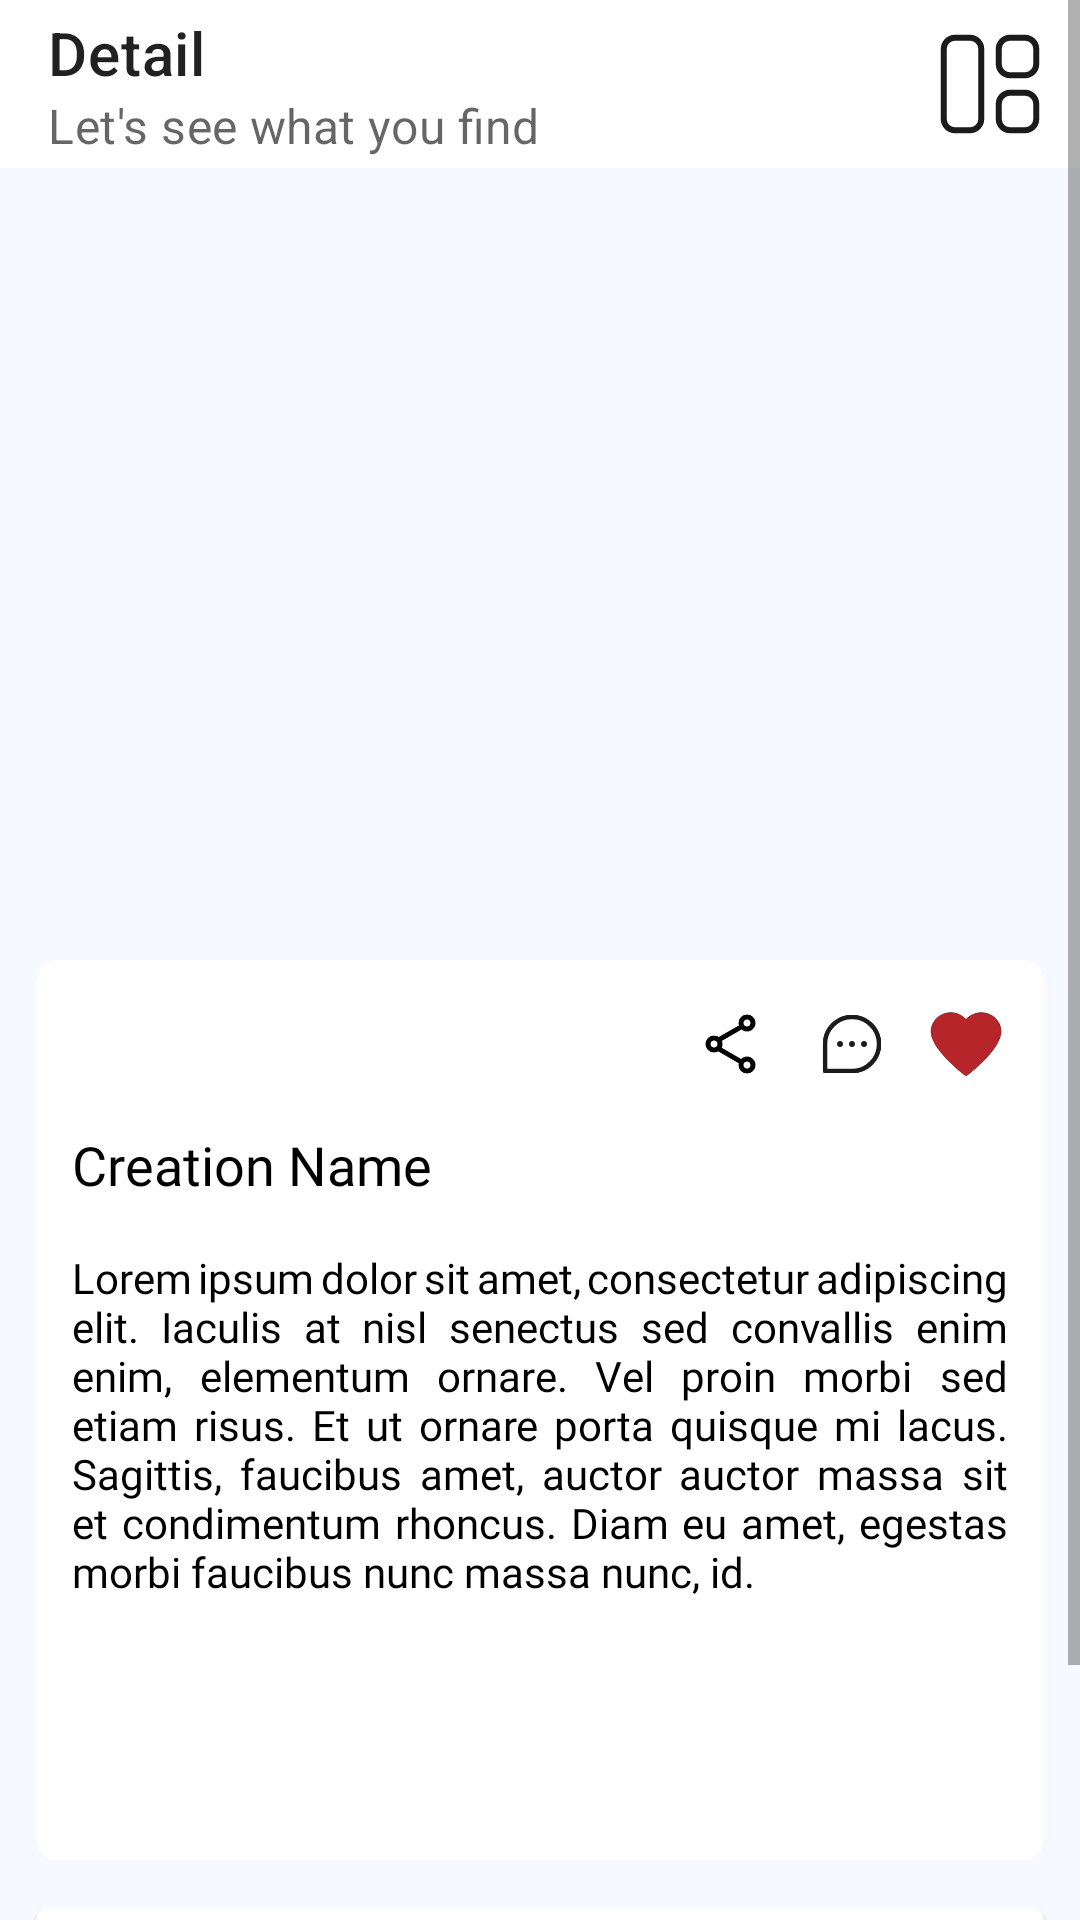

Where to tap for icons on this 1080x1920 app screen, as point (x, y):
comment: point (852, 1044)
share: point (730, 1044)
